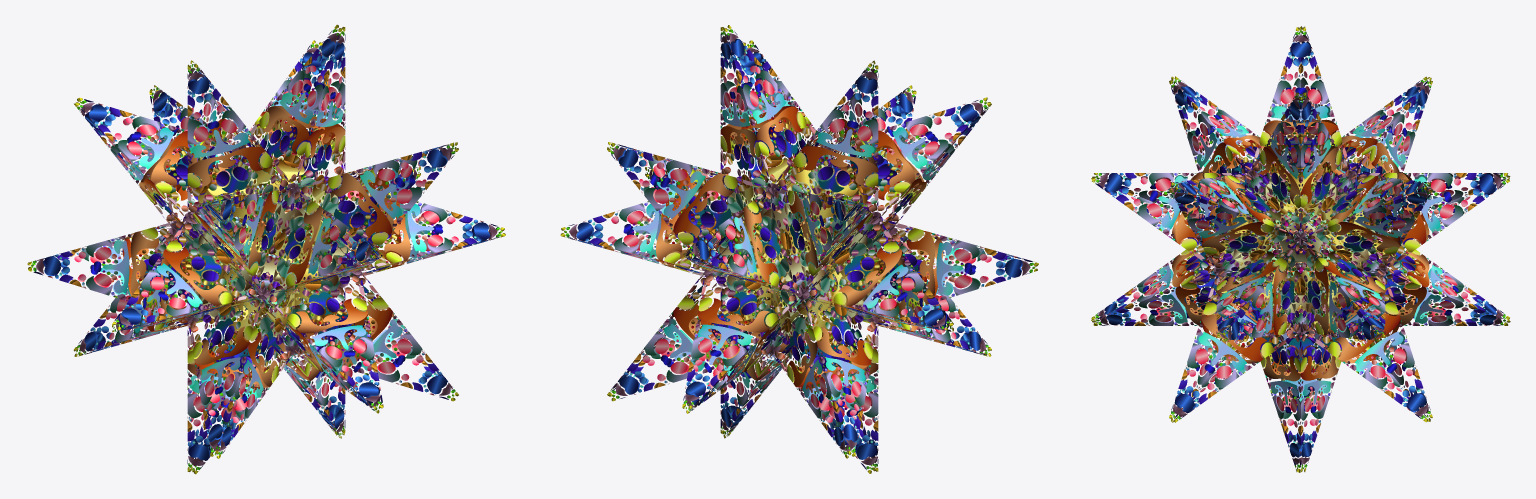
Rendered from GreatStellatedDodecahedron5.obj.
3 views of the same model, side by side, from view 1: azimuth 30°, elevation 25°; view 2: azimuth 150°, elevation 25°; view 3: azimuth 270°, elevation 25° (orthographic). The views are drawn at different scales.
Bounding box in the file's own units: 1 × 1 × 1.
1 material, 1 textured.
